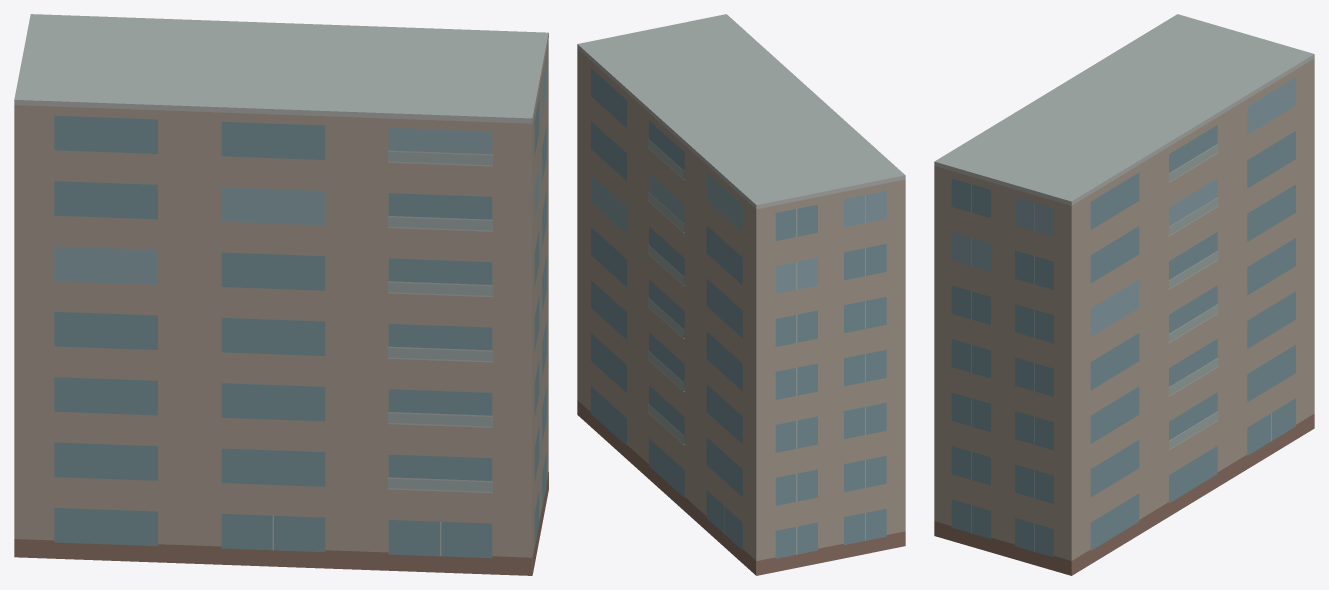
Rendered from survey-upis-33037743.glb.
3 renders of one model, left to right at view 1: azimuth 30°, elevation 25°; view 2: azimuth 150°, elevation 25°; view 3: azimuth 270°, elevation 25°, orthographic. The views are drawn at different scales.
Parts seen in each view (by area): view 1: survey-upis-33037743.tmp; view 2: survey-upis-33037743.tmp; view 3: survey-upis-33037743.tmp.
Part boxes in pixels (left/top/right/bottom): survey-upis-33037743.tmp: left=14, top=14, right=548, bottom=575; survey-upis-33037743.tmp: left=577, top=14, right=905, bottom=575; survey-upis-33037743.tmp: left=934, top=14, right=1314, bottom=575.
Bounding box in the file's own units: 22.95 × 21.35 × 19.67.
